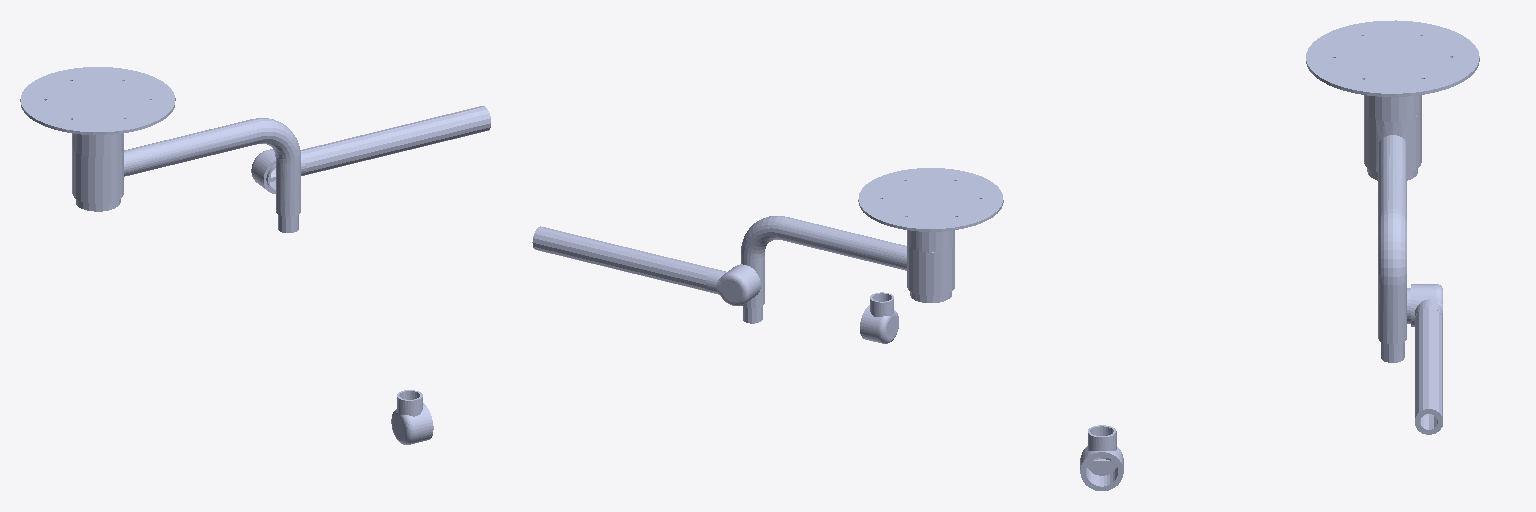
URDF robot description (surg_bot_description):
<?xml version="1.0" encoding="utf-8"?>
<!-- This URDF was automatically created by SolidWorks to URDF Exporter! Originally created by [author] ([email redacted]) 
     Commit Version: 1.6.0-4-g7f85cfe  Build Version: 1.6.7995.38578
     For more information, please see http://wiki.ros.org/sw_urdf_exporter -->
<robot
  name="surg_bot_description">
  <link
    name="Base">
    <inertial>
      <origin
        xyz="0.216262238409944 -0.121042912637408 0.163548307626698"
        rpy="0 0 0" />
      <mass
        value="15.865948579379" />
      <inertia
        ixx="0.425791793185375"
        ixy="-8.81257545098683E-19"
        ixz="-2.77588563236088E-19"
        iyy="0.425791793185375"
        iyz="9.14570631471442E-17"
        izz="0.227325591684544" />
    </inertial>
    <visual>
      <origin
        xyz="0 0 0"
        rpy="0 0 0" />
      <geometry>
        <mesh
          filename="package://surg_bot_description/meshes/Base.STL" />
      </geometry>
      <material
        name="">
        <color
          rgba="0.792156862745098 0.819607843137255 0.933333333333333 1" />
      </material>
    </visual>
    <collision>
      <origin
        xyz="0 0 0"
        rpy="0 0 0" />
      <geometry>
        <mesh
          filename="package://surg_bot_description/meshes/Base.STL" />
      </geometry>
    </collision>
  </link>
  <link
    name="Link1">
    <inertial>
      <origin
        xyz="0.468184092074472 -0.0366361753669394 -1.41862254247893E-06"
        rpy="0 0 0" />
      <mass
        value="7.06121044359283" />
      <inertia
        ixx="0.114598672993301"
        ixy="0.169939794428495"
        ixz="-7.7719383766937E-07"
        iyy="0.812773240653466"
        iyz="-2.71690833859544E-07"
        izz="0.903451010749701" />
    </inertial>
    <visual>
      <origin
        xyz="0 0 0"
        rpy="0 0 0" />
      <geometry>
        <mesh
          filename="package://surg_bot_description/meshes/Link1.STL" />
      </geometry>
      <material
        name="">
        <color
          rgba="0.792156862745098 0.819607843137255 0.933333333333333 1" />
      </material>
    </visual>
    <collision>
      <origin
        xyz="0 0 0"
        rpy="0 0 0" />
      <geometry>
        <mesh
          filename="package://surg_bot_description/meshes/Link1.STL" />
      </geometry>
    </collision>
  </link>
  <joint
    name="Joint0"
    type="revolute">
    <origin
      xyz="0.21626 -0.12104 0"
      rpy="1.5708 0 0" />
    <parent
      link="Base" />
    <child
      link="Link1" />
    <axis
      xyz="0 1 0" />
    <limit
      lower="0"
      upper="0"
      effort="0"
      velocity="0" />
  </joint>
  <link
    name="Link2">
    <inertial>
      <origin
        xyz="0.000324217632025947 0.119733596203817 1.19322866254379E-07"
        rpy="0 0 0" />
      <mass
        value="1.13069874193925" />
      <inertia
        ixx="0.00545761363628712"
        ixy="-1.99528034001582E-05"
        ixz="3.59275245642376E-09"
        iyy="0.00363844507063891"
        iyz="-5.32717473422332E-09"
        izz="0.00458437296389063" />
    </inertial>
    <visual>
      <origin
        xyz="0 0 0"
        rpy="0 0 0" />
      <geometry>
        <mesh
          filename="package://surg_bot_description/meshes/Link2.STL" />
      </geometry>
      <material
        name="">
        <color
          rgba="0.792156862745098 0.819607843137255 0.933333333333333 1" />
      </material>
    </visual>
    <collision>
      <origin
        xyz="0 0 0"
        rpy="0 0 0" />
      <geometry>
        <mesh
          filename="package://surg_bot_description/meshes/Link2.STL" />
      </geometry>
    </collision>
  </link>
  <joint
    name="Joint1"
    type="revolute">
    <origin
      xyz="0.8636 -0.35645 0"
      rpy="0 -1.5708 0" />
    <parent
      link="Link1" />
    <child
      link="Link2" />
    <axis
      xyz="0 1 0" />
    <limit
      lower="0"
      upper="0"
      effort="0"
      velocity="0" />
  </joint>
  <link
    name="Link3">
    <inertial>
      <origin
        xyz="-0.0760965236968666 1.69759468870989E-07 -0.00564338364366201"
        rpy="0 0 0" />
      <mass
        value="1.24438737439991" />
      <inertia
        ixx="0.00574312393918556"
        ixy="-5.39750857796018E-09"
        ixz="3.60994867141319E-05"
        iyy="0.00491145970466878"
        iyz="-5.81773358797806E-09"
        izz="0.00396574277432573" />
    </inertial>
    <visual>
      <origin
        xyz="0 0 0"
        rpy="0 0 0" />
      <geometry>
        <mesh
          filename="package://surg_bot_description/meshes/Link3.STL" />
      </geometry>
      <material
        name="">
        <color
          rgba="0.792156862745098 0.819607843137255 0.933333333333333 1" />
      </material>
    </visual>
    <collision>
      <origin
        xyz="0 0 0"
        rpy="0 0 0" />
      <geometry>
        <mesh
          filename="package://surg_bot_description/meshes/Link3.STL" />
      </geometry>
    </collision>
  </link>
  <joint
    name="Joint2"
    type="revolute">
    <origin
      xyz="-0.0508 0.127 0"
      rpy="0 0 0" />
    <parent
      link="Link2" />
    <child
      link="Link3" />
    <axis
      xyz="1 0 0" />
    <limit
      lower="0"
      upper="0"
      effort="0"
      velocity="0" />
  </joint>
  <link
    name="Link4">
    <inertial>
      <origin
        xyz="5.00901403688303E-15 -1.11022302462516E-16 -0.477626722689076"
        rpy="0 0 0" />
      <mass
        value="4.30755194902526" />
      <inertia
        ixx="0.279820046555854"
        ixy="4.87994426740076E-35"
        ixz="2.85143007546302E-15"
        iyy="0.279820046555854"
        iyz="-6.39211924233864E-35"
        izz="0.00765624521194809" />
    </inertial>
    <visual>
      <origin
        xyz="0 0 0"
        rpy="0 0 0" />
      <geometry>
        <mesh
          filename="package://surg_bot_description/meshes/Link4.STL" />
      </geometry>
      <material
        name="">
        <color
          rgba="0.792156862745098 0.819607843137255 0.933333333333333 1" />
      </material>
    </visual>
    <collision>
      <origin
        xyz="0 0 0"
        rpy="0 0 0" />
      <geometry>
        <mesh
          filename="package://surg_bot_description/meshes/Link4.STL" />
      </geometry>
    </collision>
  </link>
  <joint
    name="Joint3"
    type="fixed">
    <origin
      xyz="-0.0762 0 -0.0508"
      rpy="0 0 0" />
    <parent
      link="Link3" />
    <child
      link="Link4" />
    <axis
      xyz="0 0 0" />
  </joint>
</robot>

--- Render facts (derived) ---
Views: 3 orthographic renders of the robot side by side, from view 1: azimuth 30°, elevation 25°; view 2: azimuth 150°, elevation 25°; view 3: azimuth 270°, elevation 25°.
Model surg_bot_description with 5 links and 4 joints (3 revolute, 1 fixed), rooted at Base, posed all joints at 0.
Visible links, largest first — view 1: Base, Link1, Link4, Link2, Link3; view 2: Base, Link1, Link4, Link3, Link2; view 3: Base, Link1, Link4, Link2, Link3.
Link boxes in pixels (x1,y1,x2,y2): Base: [20, 67, 175, 211]; Link1: [72, 118, 300, 232]; Link4: [301, 106, 490, 175]; Link2: [391, 390, 433, 444]; Link3: [251, 149, 306, 193]; Base: [858, 168, 1003, 302]; Link1: [741, 216, 954, 323]; Link4: [532, 226, 713, 291]; Link3: [705, 264, 760, 305]; Link2: [860, 292, 898, 343]; Base: [1306, 20, 1479, 180]; Link1: [1364, 111, 1421, 362]; Link4: [1415, 308, 1442, 434]; Link2: [1080, 425, 1123, 490]; Link3: [1407, 284, 1442, 326].
Bounding box of the posed robot: 2.13 × 1.4 × 1.27 m (x, y, z).
5 mesh visuals loaded from 5 distinct referenced files (5 binary STL).